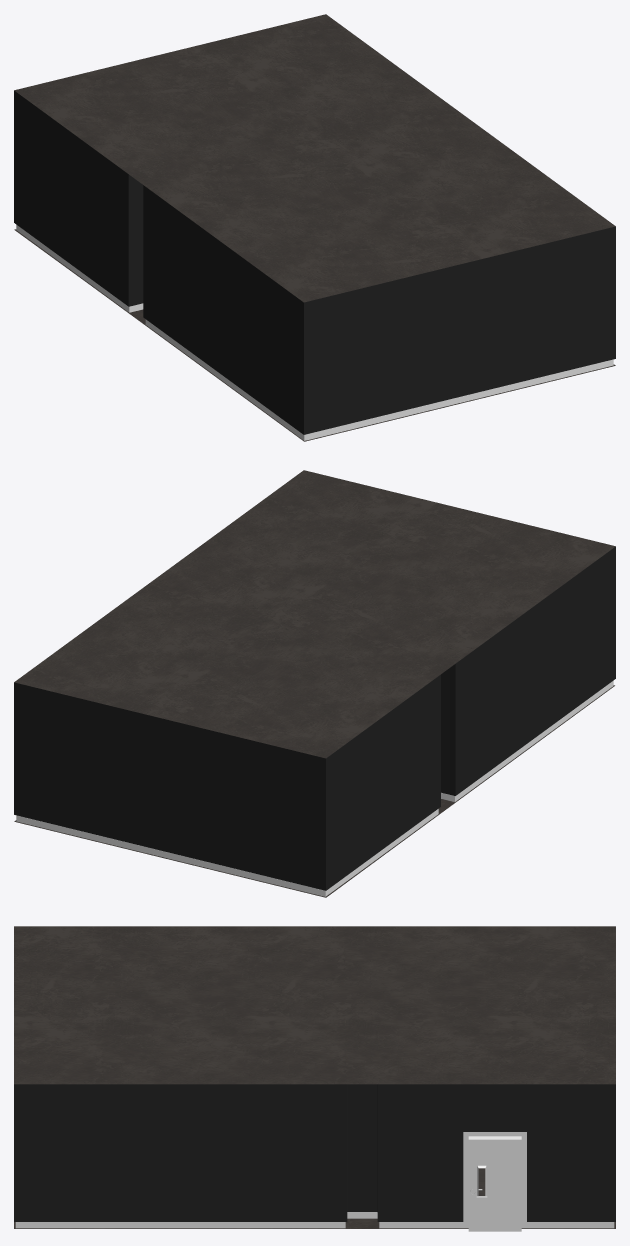
The model's file is classroom.fbx.
3 views of the same model, one above another, from view 1: azimuth 30°, elevation 25°; view 2: azimuth 150°, elevation 25°; view 3: azimuth 270°, elevation 25° (orthographic). The views are drawn at different scales.
Parts seen in each view (by area): view 1: classroom_lo; view 2: classroom_lo; view 3: classroom_lo.
Boxes of the visible parts, x1,y1,x2,y2 form: classroom_lo: (14, 14, 615, 441); classroom_lo: (14, 470, 615, 897); classroom_lo: (14, 926, 615, 1231).
Bounding box in the file's own units: 11.5 × 4.8 × 18.1.
